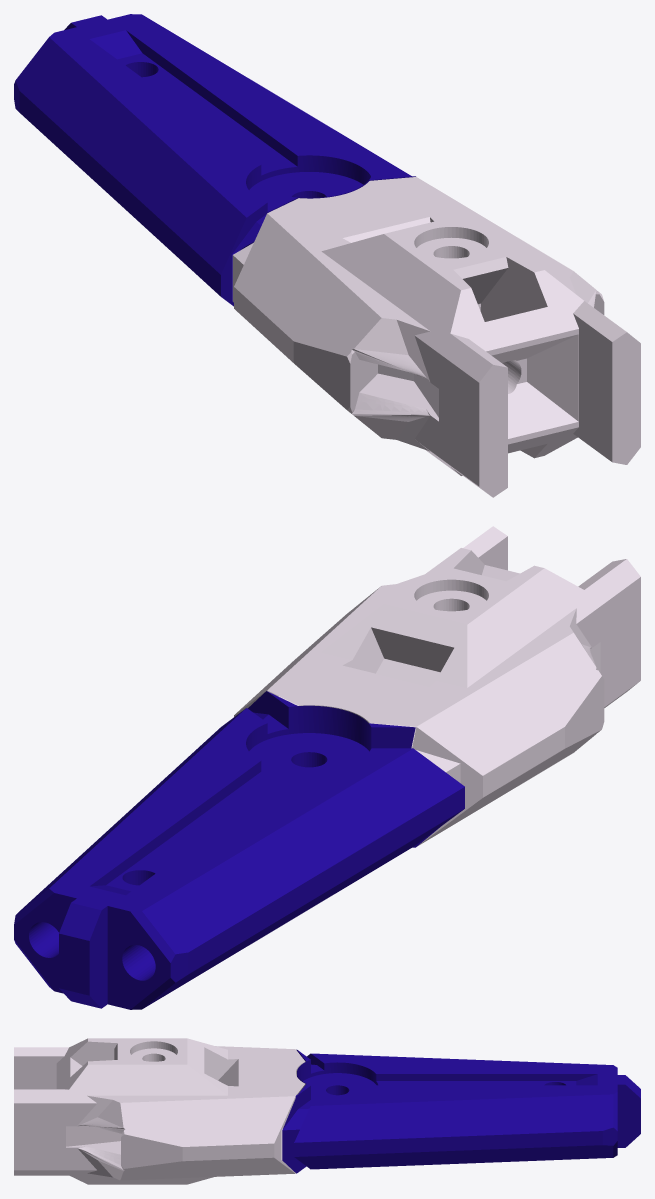
The model's file is fannel.fbx.
3 views of the same model, one above another, from view 1: azimuth 30°, elevation 25°; view 2: azimuth 150°, elevation 25°; view 3: azimuth 270°, elevation 25° (orthographic). The views are drawn at different scales.
Parts seen in each view (by area): view 1: ReZELbinder1.001, ReZELbinder1.00; view 2: ReZELbinder1.00, ReZELbinder1.001; view 3: ReZELbinder1.001, ReZELbinder1.00.
Part boxes in pixels (left/top/right/bottom): ReZELbinder1.001: left=232, top=177, right=640, bottom=497; ReZELbinder1.00: left=14, top=14, right=415, bottom=306; ReZELbinder1.00: left=14, top=691, right=464, bottom=1009; ReZELbinder1.001: left=234, top=526, right=640, bottom=846; ReZELbinder1.001: left=14, top=1038, right=305, bottom=1184; ReZELbinder1.00: left=282, top=1049, right=640, bottom=1173.
Bounding box in the file's own units: 2598 × 1701 × 8062.
